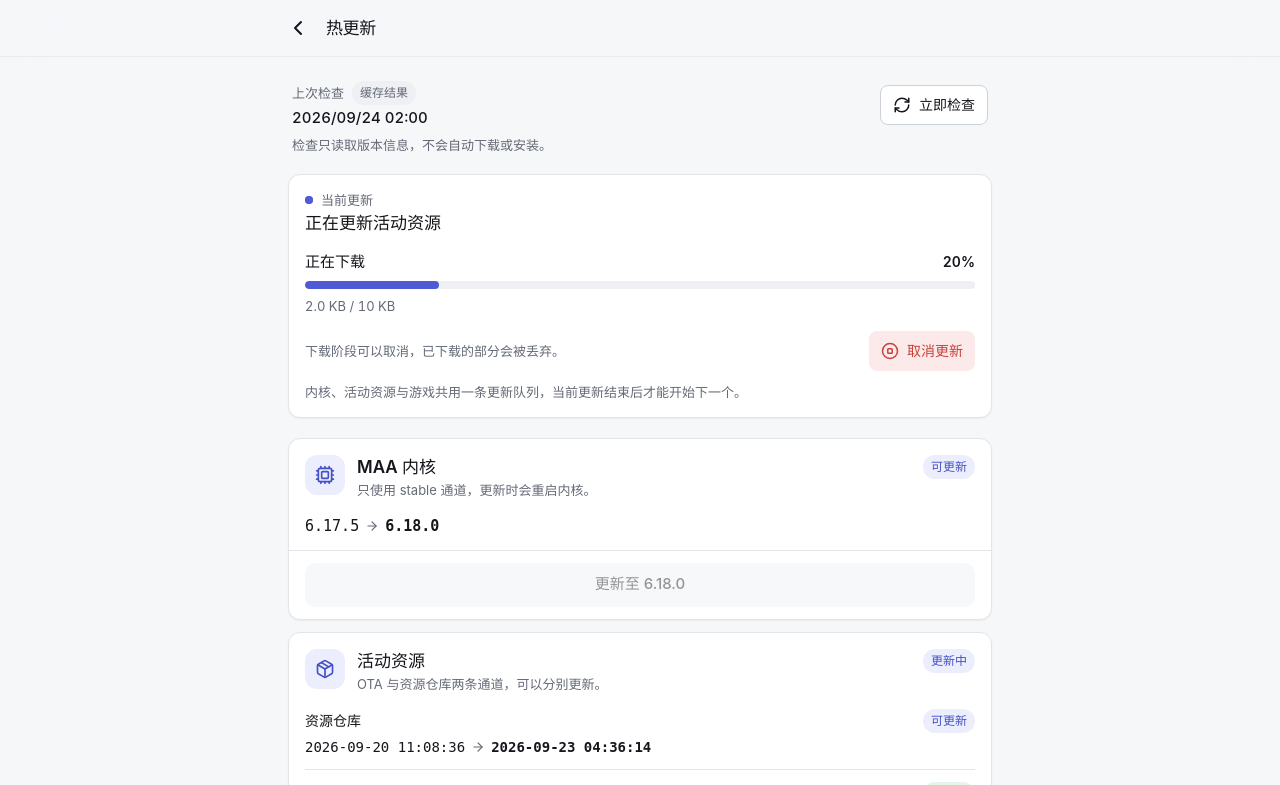
Test case: updates page › asks before cancelling a running download and keeps it running when the user backs out
Check: the heading "正在更新活动资源" is shown, box [305,212,441,232]
Check: the text "内核、活动资源与游戏共用一条更新队列，当前更新结束后才能开始下一个。" is shown, box [305,384,747,400]
Click the button "取消更新" at (922, 351), box [869,331,975,371]
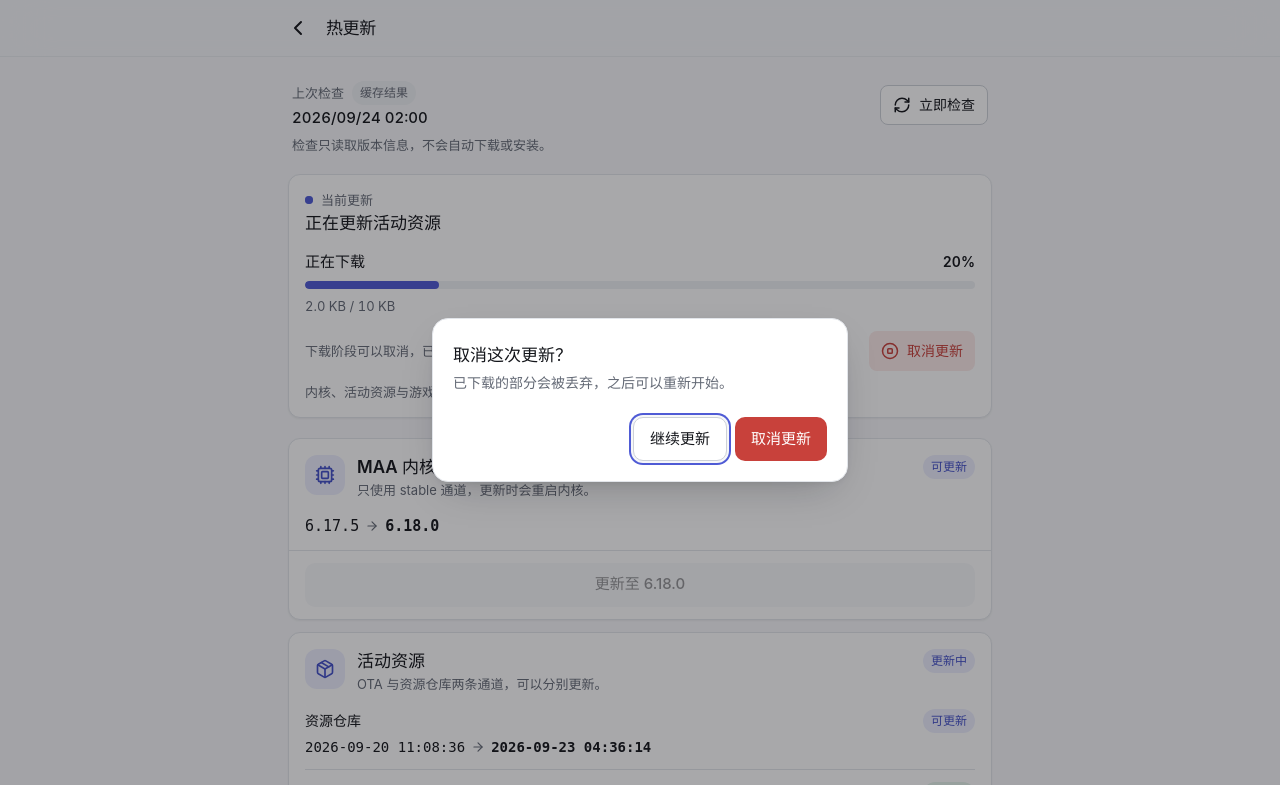
Click the button "继续更新" at (680, 439), box [633,417,727,461]
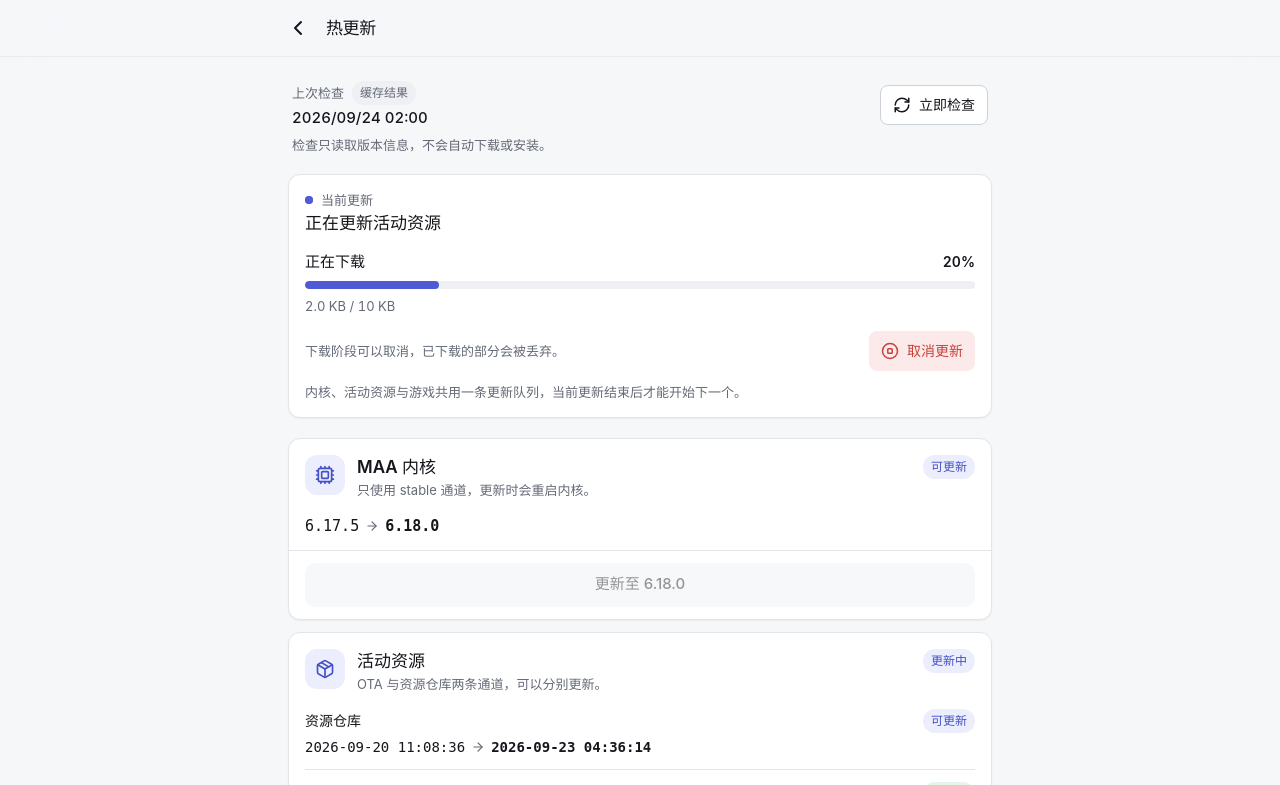
Check: the text "20%" is shown, box [943,252,975,272]
Check: the dialog is gone
